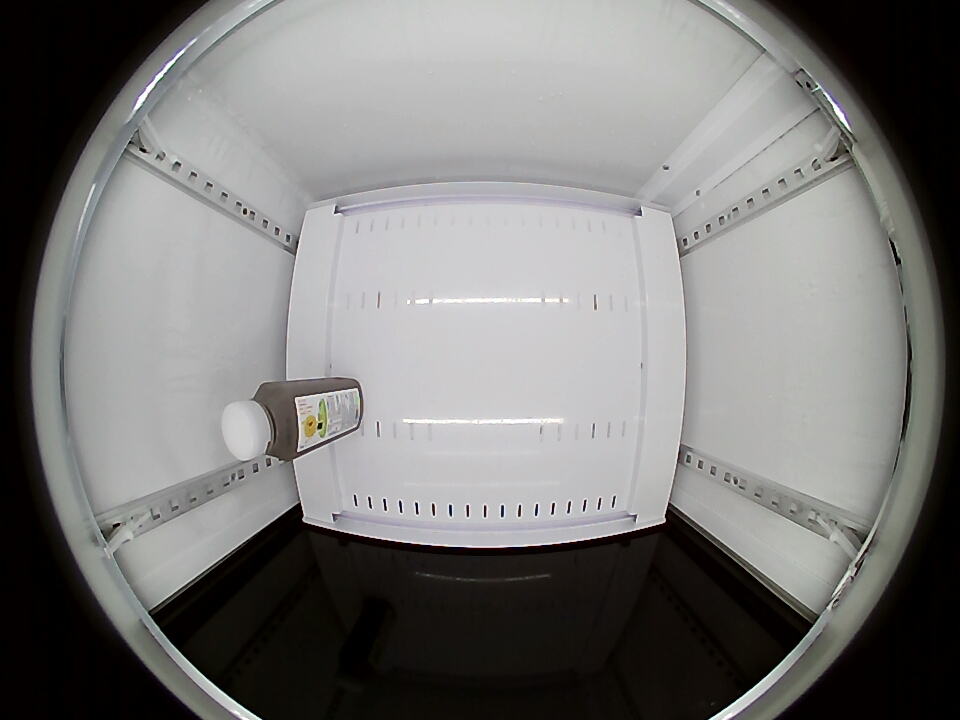youyanggudong: (221, 383, 302, 462)
